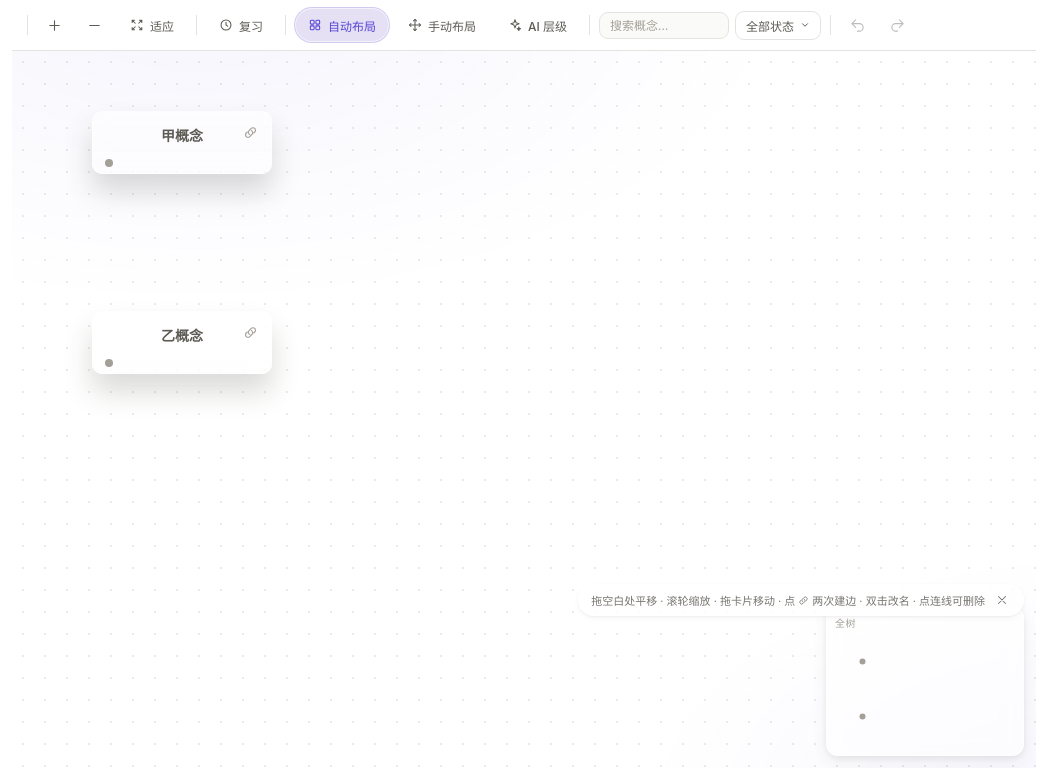
连线：点击-点击建边（反馈 #1） › 再点另一个卡片的连接键：建边并退出待连接
This screenshot has width=1048, height=768.
Click the button titled "连接：点击后再点另一卡片的连接键" next to "甲概念" at (250, 132), box 236,118 -> 265,147
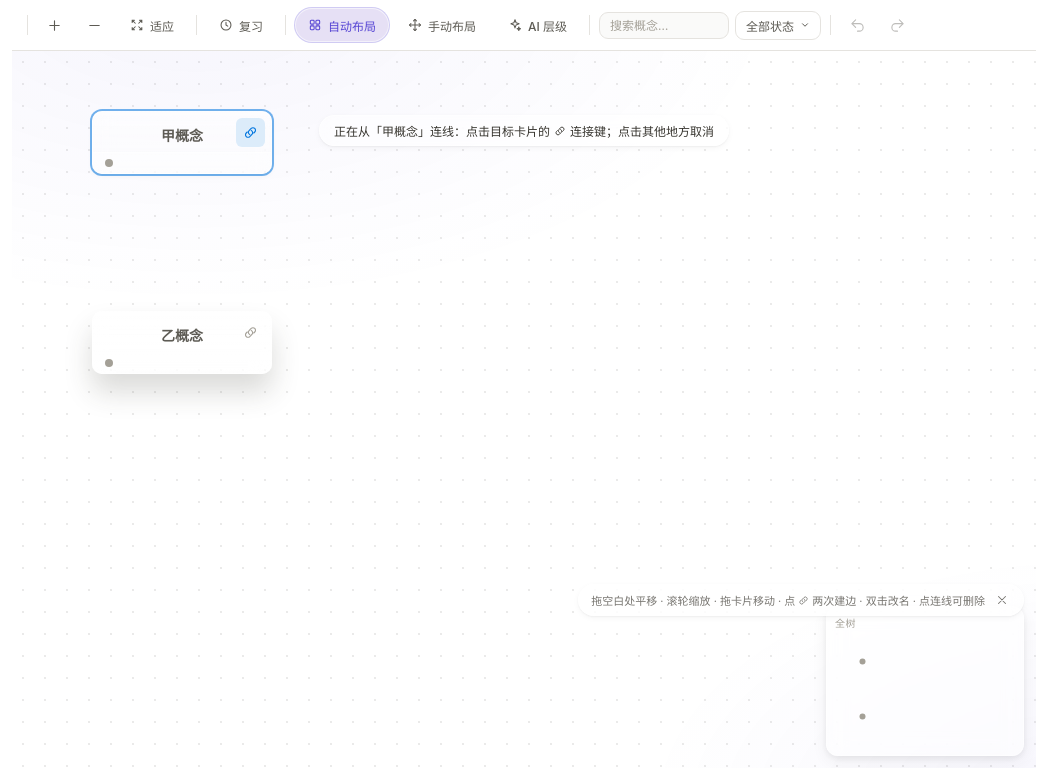
待连接后，源卡片手柄的 title 变化；目标仍是默认 title
Click the button titled "连接：点击后再点另一卡片的连接键" at (250, 332), box 236,318 -> 265,347
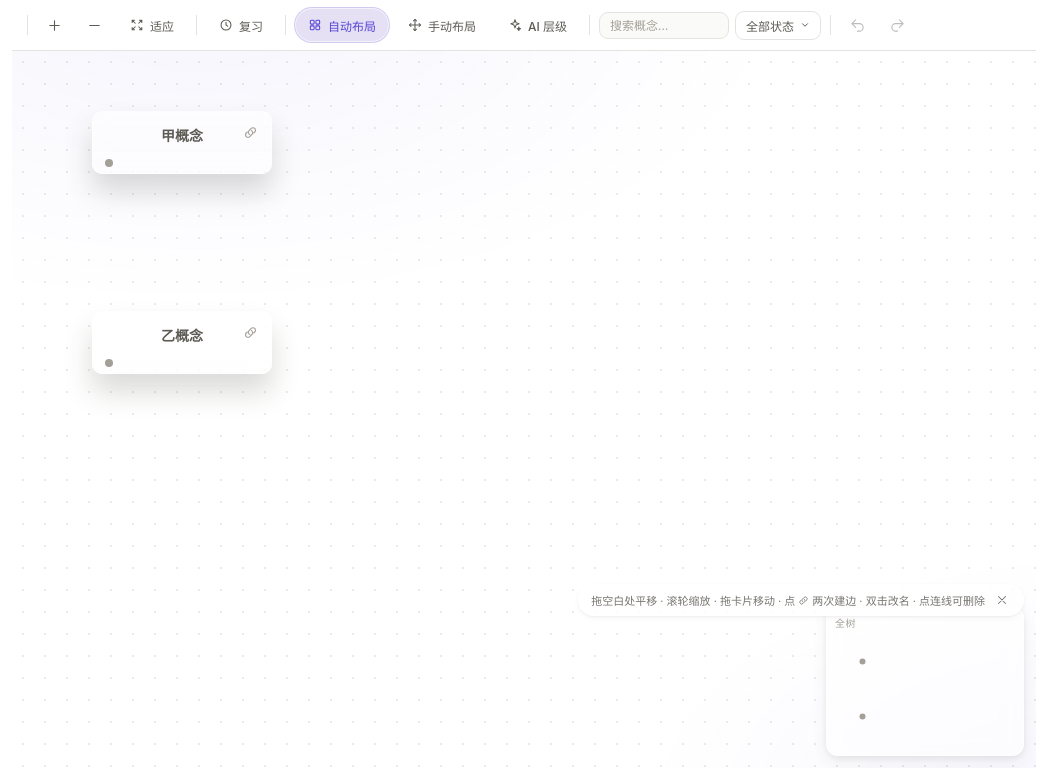
Expected: the text "正在从「甲概念」连线" is gone
